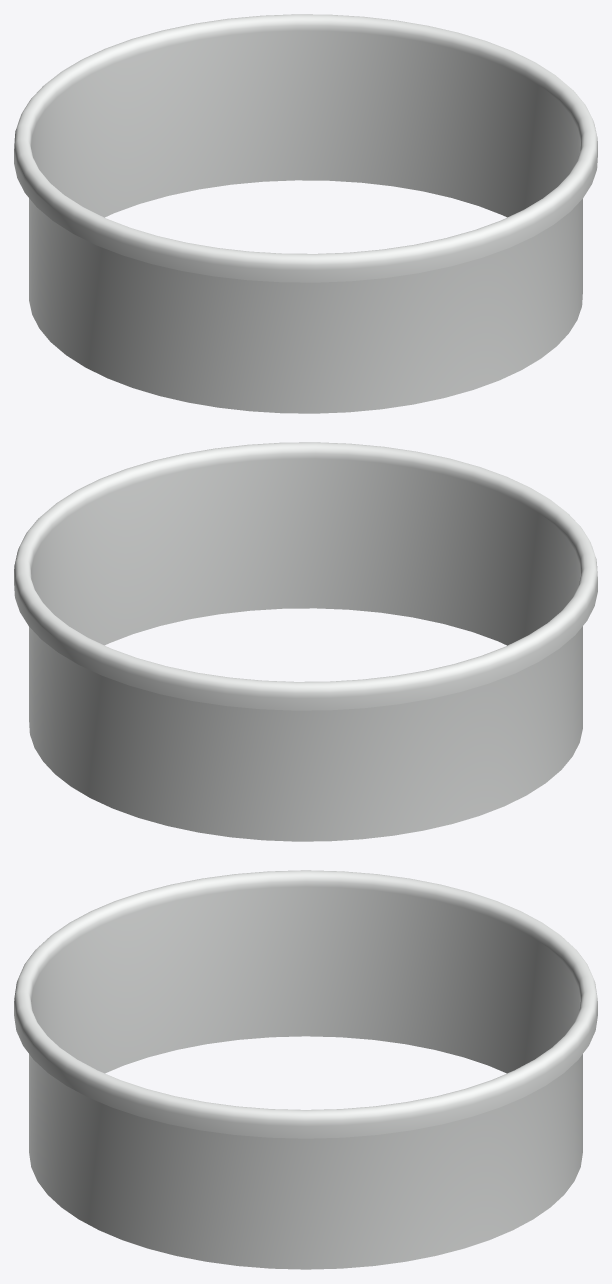
3 renders of one model, top to bottom at view 1: azimuth 30°, elevation 25°; view 2: azimuth 150°, elevation 25°; view 3: azimuth 270°, elevation 25°, orthographic.
Visible parts, largest first — view 1: BLOCKED_supplier_form_ENVELOPE_ONLY; view 2: BLOCKED_supplier_form_ENVELOPE_ONLY; view 3: BLOCKED_supplier_form_ENVELOPE_ONLY.
Part boxes in pixels (x1,y1,x2,y2): BLOCKED_supplier_form_ENVELOPE_ONLY: (14, 14, 597, 413); BLOCKED_supplier_form_ENVELOPE_ONLY: (14, 442, 597, 841); BLOCKED_supplier_form_ENVELOPE_ONLY: (14, 870, 597, 1269).
Size of the model in its own units: 0.1667 by 0.0508 by 0.1667.
Materials: 1 (1 with a texture image).
